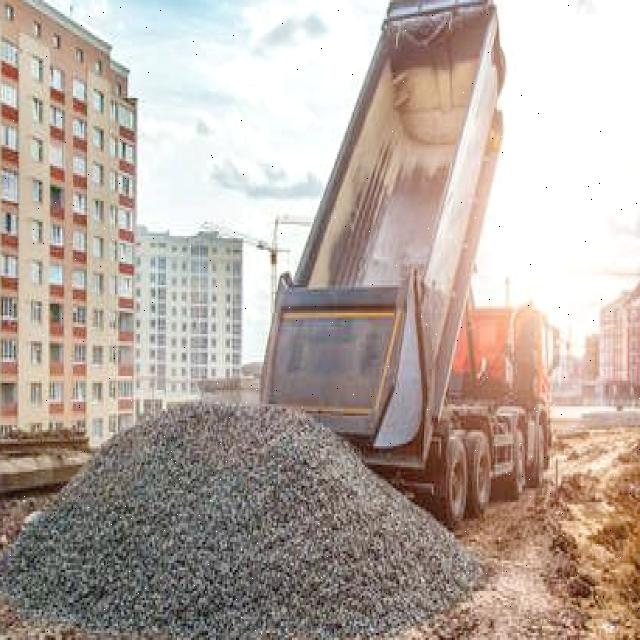Excavator: (260, 0, 554, 528)
